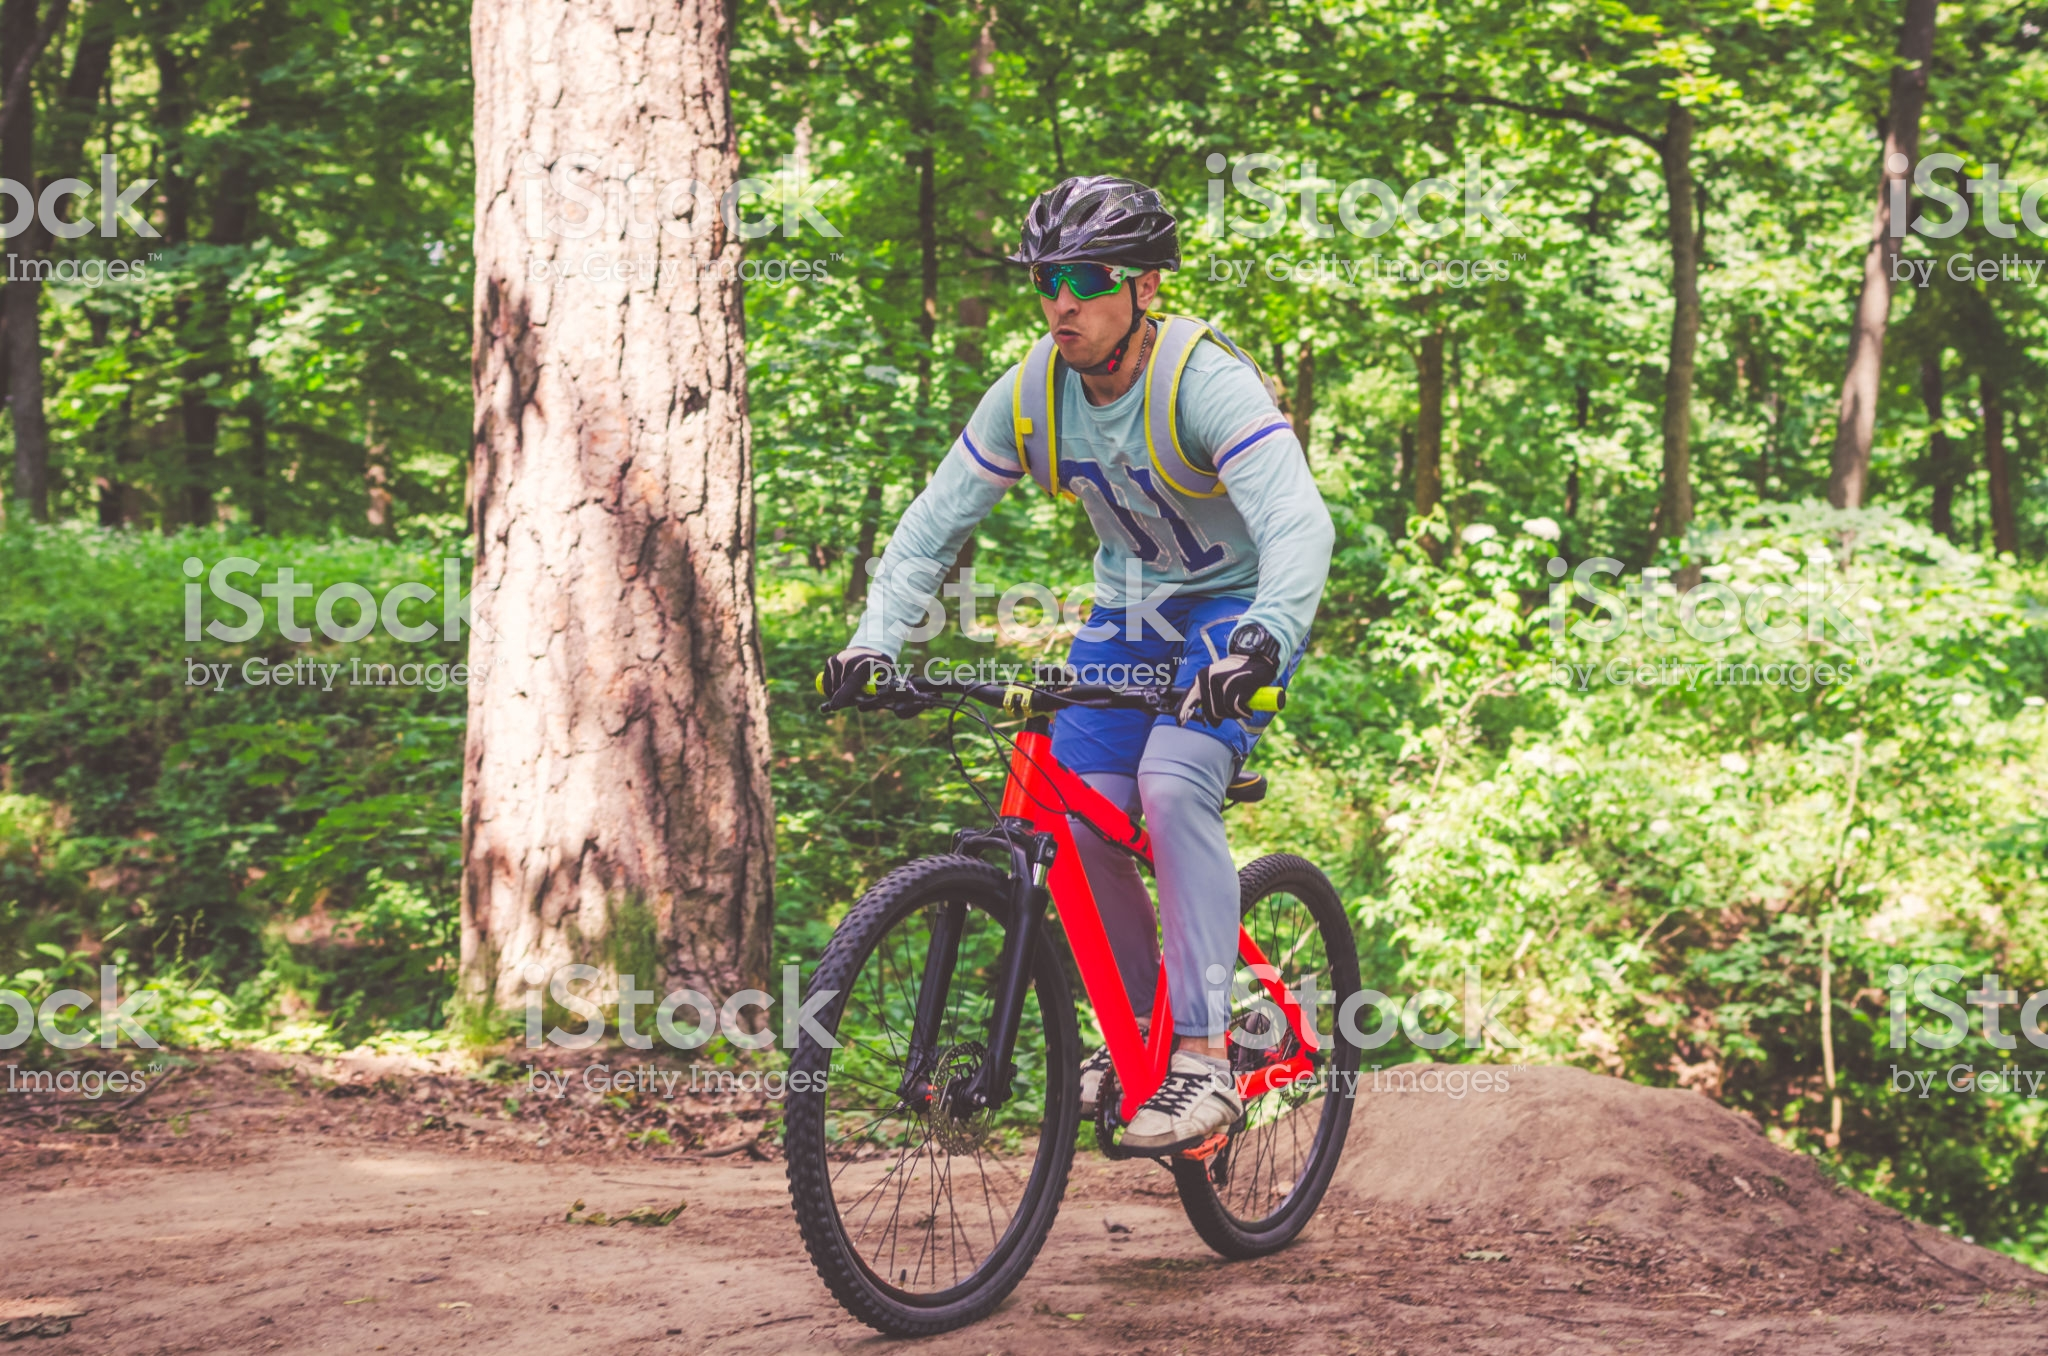helmet: (1013, 156, 1168, 268)
